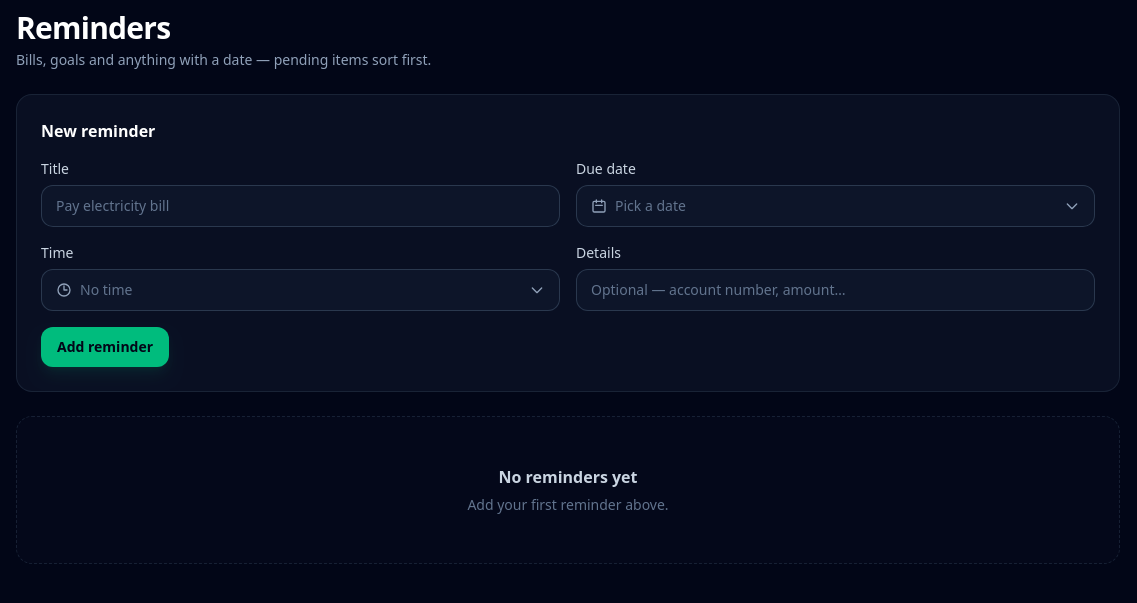
Test: RemindersPage › validates on the client and never posts an incomplete reminder
The image size is (1137, 603).
expect the text "No reminders yet" is shown: met, box [498, 466, 638, 488]
Click the button "Add reminder" at (105, 347), box [41, 327, 169, 367]
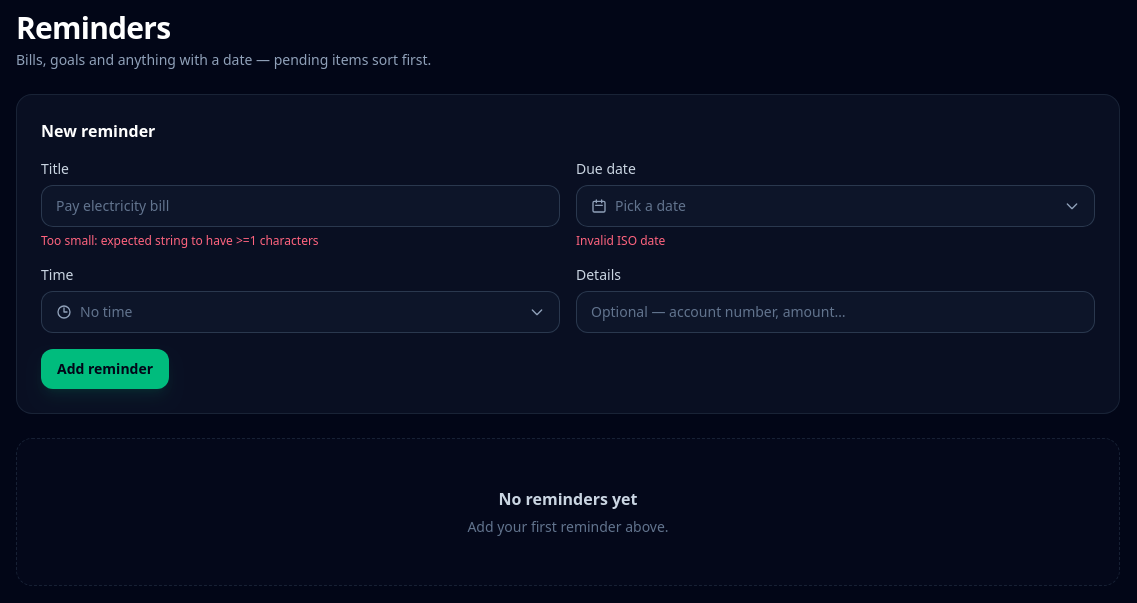
expect the message "Too small: expected string to have >=1 characters" is shown: met, box [41, 232, 319, 249]
